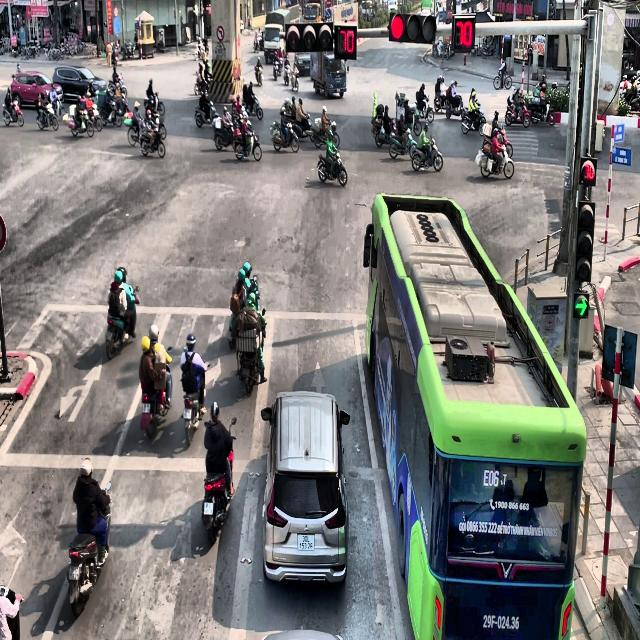BUS: (362, 192, 586, 639)
CAR: (261, 389, 350, 585), (52, 65, 106, 103), (10, 71, 63, 109)
MOTORBIKE: (67, 482, 111, 617), (202, 417, 236, 545), (140, 346, 173, 439), (234, 307, 266, 393), (106, 286, 140, 360), (181, 363, 210, 446), (478, 139, 514, 180), (410, 136, 443, 172), (138, 118, 166, 158), (317, 150, 347, 187), (232, 129, 262, 161), (270, 121, 299, 153), (389, 128, 416, 160), (78, 95, 102, 131), (211, 113, 234, 150), (504, 95, 530, 127), (68, 106, 94, 138), (461, 103, 486, 135), (98, 95, 123, 127), (312, 120, 340, 148), (530, 94, 554, 126), (36, 100, 58, 131), (374, 120, 398, 148), (2, 97, 24, 127), (195, 98, 217, 128), (414, 95, 434, 124), (242, 94, 263, 120), (144, 92, 165, 117), (493, 65, 512, 90), (446, 93, 464, 119), (108, 74, 127, 98), (195, 73, 212, 96), (371, 104, 384, 134), (434, 88, 448, 112), (290, 66, 299, 91), (254, 64, 264, 86), (283, 62, 290, 86), (272, 59, 279, 79)
TRAFFIC_LIGHT: (574, 198, 594, 282), (388, 12, 437, 44), (284, 21, 334, 52), (452, 14, 476, 52), (334, 24, 357, 60), (579, 156, 597, 186)
